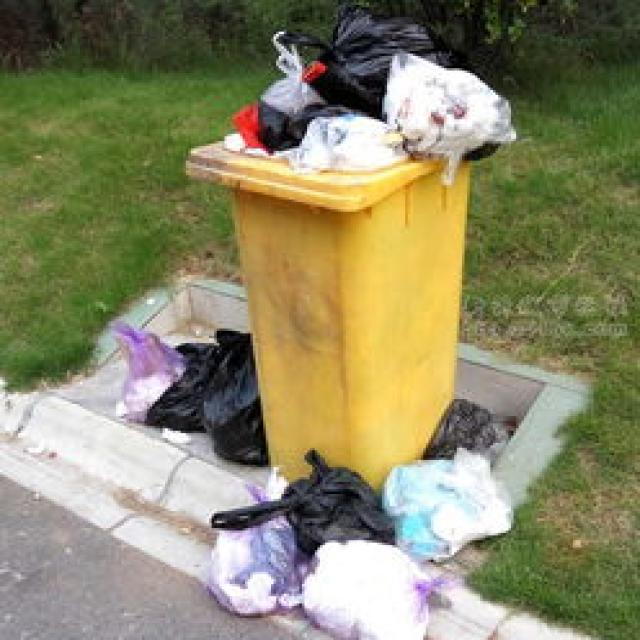garbage: (201, 397, 514, 638), (103, 316, 266, 465)
overflow: (183, 9, 514, 487)
